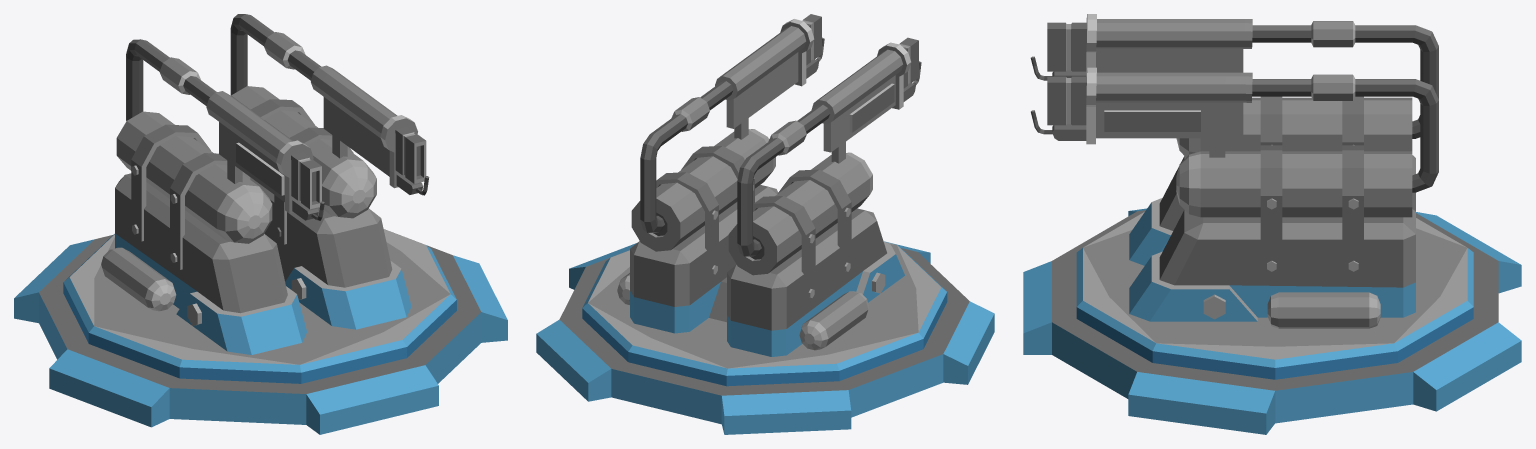
File: tower_napalm_blue_2.fbx
The picture shows the model from 3 angles, left to right: view 1: azimuth 30°, elevation 25°; view 2: azimuth 150°, elevation 25°; view 3: azimuth 270°, elevation 25°; orthographic projection. The views are drawn at different scales.
Parts seen in each view (by area): view 1: top_napalm_blue_2, tower_napalm_blue_2; view 2: top_napalm_blue_2, tower_napalm_blue_2; view 3: top_napalm_blue_2, tower_napalm_blue_2.
Boxes of the visible parts, x1=… form: top_napalm_blue_2: x1=101, y1=14, x2=429, y2=354; tower_napalm_blue_2: x1=14, y1=229, x2=507, y2=434; top_napalm_blue_2: x1=617, y1=14, x2=921, y2=356; tower_napalm_blue_2: x1=536, y1=241, x2=994, y2=434; top_napalm_blue_2: x1=1030, y1=14, x2=1438, y2=328; tower_napalm_blue_2: x1=1023, y1=208, x2=1521, y2=434.
Size of the model in its own units: 190 by 112 by 181.
